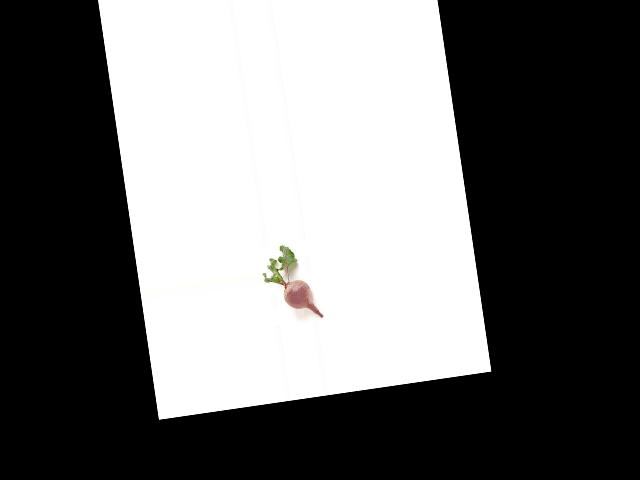beet: (259, 240, 323, 324)
